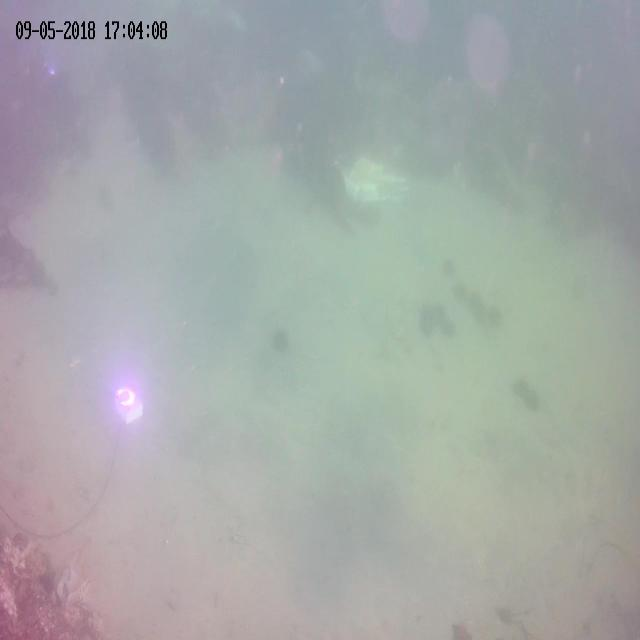echinus: (413, 304, 432, 339), (270, 324, 288, 352), (468, 288, 482, 318), (442, 316, 458, 341), (425, 300, 443, 322), (439, 252, 454, 278), (514, 375, 530, 398), (484, 303, 498, 329), (456, 282, 468, 308), (527, 389, 539, 412)
